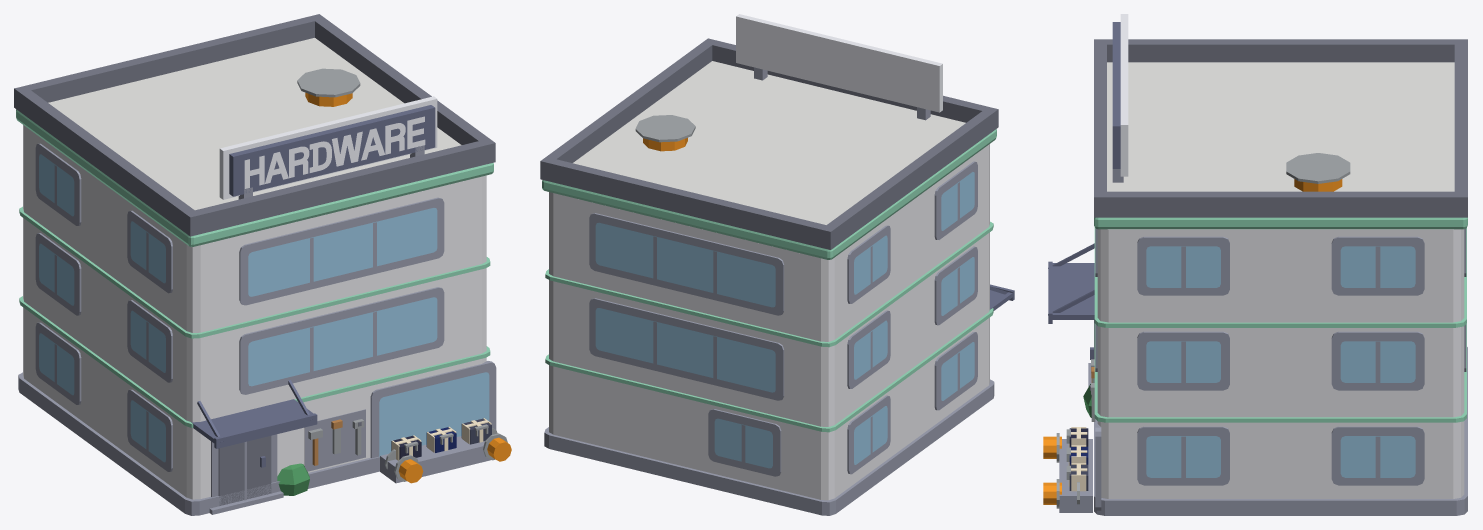
Rendered from shop-equipment-1x1-t3-tone-a.glb.
The picture shows the model from 3 angles, left to right: view 1: azimuth 30°, elevation 25°; view 2: azimuth 150°, elevation 25°; view 3: azimuth 270°, elevation 25°; orthographic projection. The views are drawn at different scales.
Visible parts, largest first — view 1: shop-equipment-1x1-t3-tone-a; view 2: shop-equipment-1x1-t3-tone-a; view 3: shop-equipment-1x1-t3-tone-a.
Boxes of the visible parts, x1,y1,x2,y2 form: shop-equipment-1x1-t3-tone-a: (14, 14, 511, 515); shop-equipment-1x1-t3-tone-a: (540, 14, 1014, 515); shop-equipment-1x1-t3-tone-a: (1043, 14, 1467, 515).
Size of the model in its own units: 1.01 by 1.08 by 1.14.
1 material, 1 textured.
